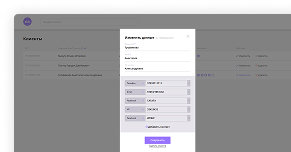

The page's visual inventory and layout, read from the dashboard file:
{"tool":"powerbi","page":{"name":"Страница 1","canvas":[1280,720],"ordinal":0},"visuals":[{"type":"lineChart","title":"Общая динамика продаж","fields":{"Y":["Sum(tbl_Sales_All.Sales Amount)"],"Category":["Dim_Date.Date"]},"box":[269.3,116.1,1010.7,345.9],"z":0},{"type":"pieChart","title":"Продажи по брендам","fields":{"Category":["Dim_Categories.ITEM TYPE"],"Y":["Sum(tbl_Sales_All.Sales Amount)"]},"box":[269.3,460.8,531.8,259.2],"z":1000},{"type":"columnChart","title":"ТОП-5 Поставщиков","fields":{"Category":["Dim_Suppliers.SUPPLIER"],"Y":["Sum(tbl_Sales_All.Sales Amount)"]},"box":[801.1,460.8,478.9,259.2],"z":2000},{"type":"card","fields":{"Values":["Sum(tbl_Sales_All.Sales Amount)"]},"box":[270.6,0,262.3,104.4],"z":3000},{"type":"card","fields":{"Values":["Sum(tbl_Sales_All.Sales Amount)"]},"box":[538.4,0,262.3,104.4],"z":4000},{"type":"card","fields":{"Values":["Sum(tbl_Sales_All.Sales Amount)"]},"box":[774.6,0,262.3,104.4],"z":5000},{"type":"advancedSlicerVisual","title":"Год","fields":{"Values":["Dim_Date.Year"]},"box":[0,88.4,268.8,155.9],"z":6000},{"type":"slicer","title":"Категория товара","fields":{"Values":["Dim_Categories.ITEM TYPE"]},"box":[0,592.2,252.6,61.4],"z":7000},{"type":"actionButton","box":[26.3,669.5,199.7,50.5],"z":8000},{"type":"slicer","title":"Месяц","fields":{"Values":["Dim_Date.Month name"]},"box":[0,244.4,270,165.2],"z":9000},{"type":"advancedSlicerVisual","title":"Канал продаж","fields":{"Values":["tbl_Sales_All.Sales Channel"]},"box":[0,0,268.8,88.4],"z":10000},{"type":"slicer","title":"Поставщик","fields":{"Values":["Dim_Suppliers.SUPPLIER"]},"box":[0,409.6,270,183.9],"z":11000},{"type":"card","fields":{"Values":["tbl_Sales_All.Sales MoM %"]},"box":[1036.9,0,244.5,104.4],"z":12000}]}

Visuals, with their boxes on the page's 1280x720 design canvas (x1, y1, x2, y2). These are canvas units, not pixel positions in the 291x152 screenshot, which may show the page scaled, cropped or inside an application window:
"Общая динамика продаж" lineChart: pyautogui.locateOnScreen(269, 116, 1280, 462)
"Продажи по брендам" pieChart: pyautogui.locateOnScreen(269, 461, 801, 720)
"ТОП-5 Поставщиков" columnChart: pyautogui.locateOnScreen(801, 461, 1280, 720)
card - Sum(tbl_Sales_All.Sales Amount): pyautogui.locateOnScreen(271, 0, 533, 104)
card - Sum(tbl_Sales_All.Sales Amount): pyautogui.locateOnScreen(538, 0, 801, 104)
card - Sum(tbl_Sales_All.Sales Amount): pyautogui.locateOnScreen(775, 0, 1037, 104)
"Год" advancedSlicerVisual: pyautogui.locateOnScreen(0, 88, 269, 244)
"Категория товара" slicer: pyautogui.locateOnScreen(0, 592, 253, 654)
actionButton: pyautogui.locateOnScreen(26, 670, 226, 720)
"Месяц" slicer: pyautogui.locateOnScreen(0, 244, 270, 410)
"Канал продаж" advancedSlicerVisual: pyautogui.locateOnScreen(0, 0, 269, 88)
"Поставщик" slicer: pyautogui.locateOnScreen(0, 410, 270, 594)
card - tbl_Sales_All.Sales MoM %: pyautogui.locateOnScreen(1037, 0, 1281, 104)
